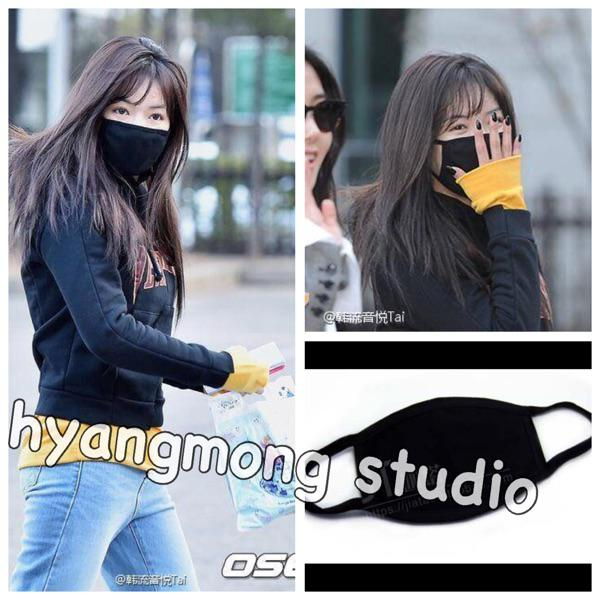NONE: (268, 95, 342, 195)
OK: (434, 103, 516, 200), (99, 92, 171, 174)
